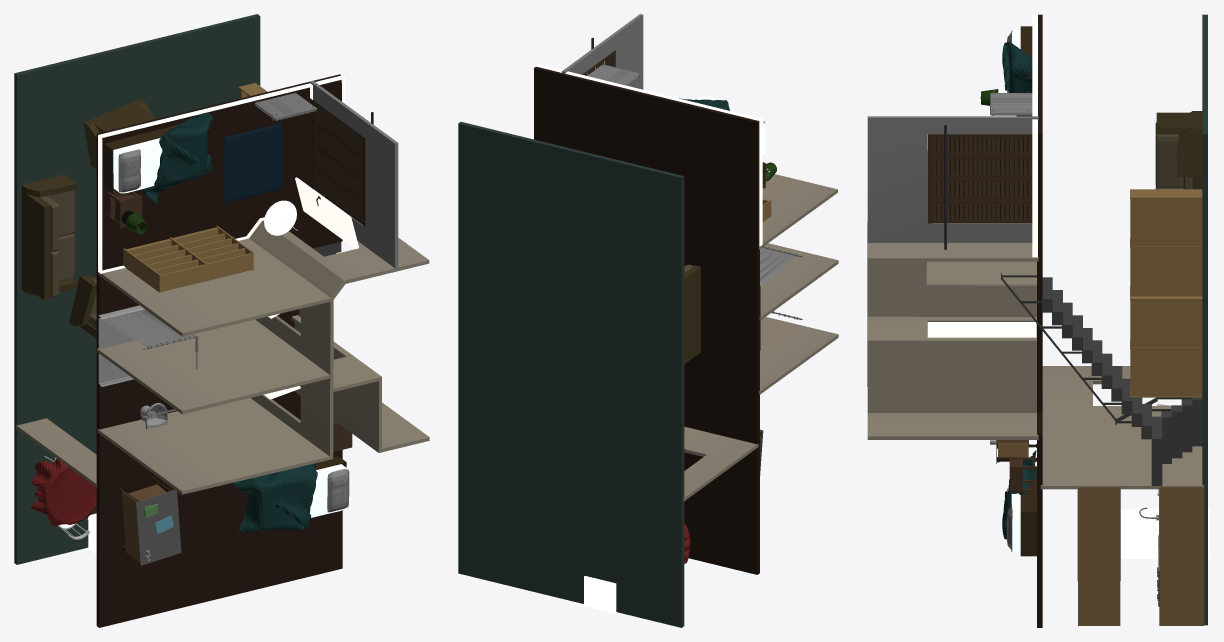
3 views of the same model, side by side, from view 1: azimuth 30°, elevation 25°; view 2: azimuth 150°, elevation 25°; view 3: azimuth 270°, elevation 25° (orthographic). The views are drawn at different scales.
Parts seen in each view (by area): view 1: world; view 2: world; view 3: world.
Part boxes in pixels (left/top/right/bottom): world: left=14, top=14, right=429, bottom=627; world: left=458, top=14, right=838, bottom=627; world: left=867, top=14, right=1209, bottom=627.
Size of the model in its own units: 4.91 by 9.37 by 5.86.
1 material, 1 textured.
